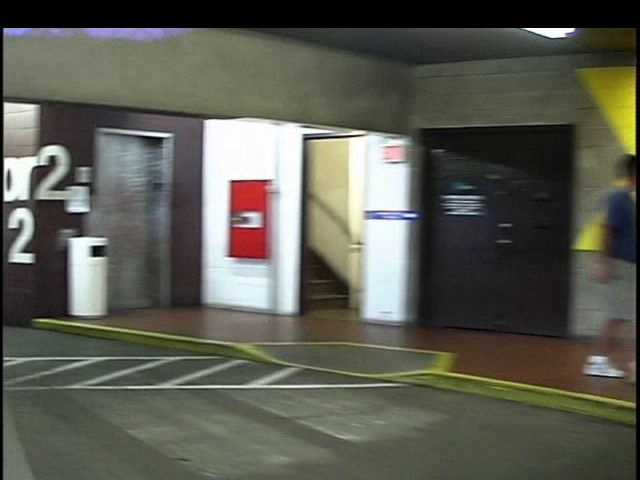person: (545, 149, 639, 388)
